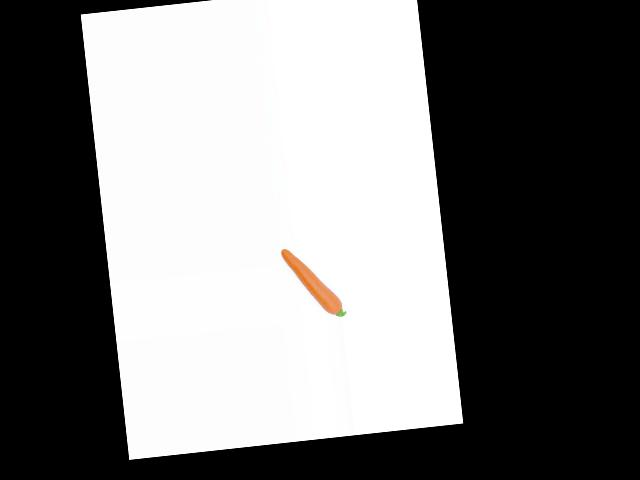carrot: (276, 242, 345, 320)
